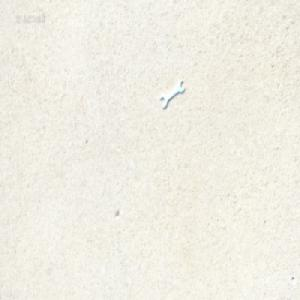Wrench: (161, 82, 185, 110)
